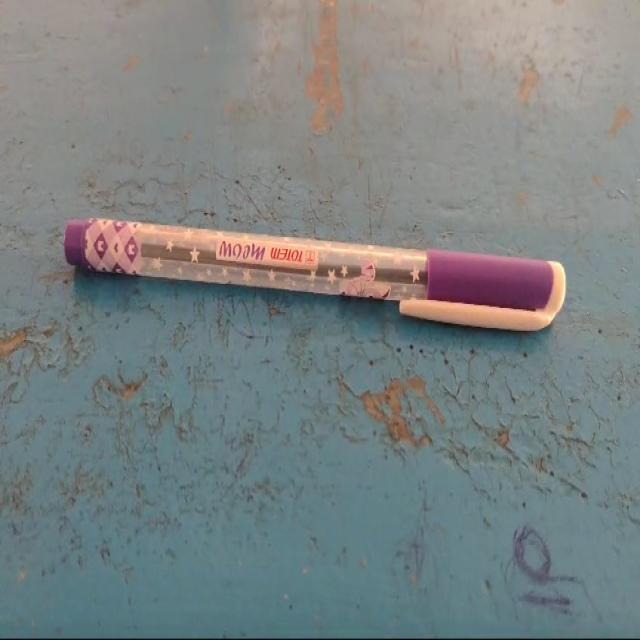pen: (44, 134, 607, 432)
